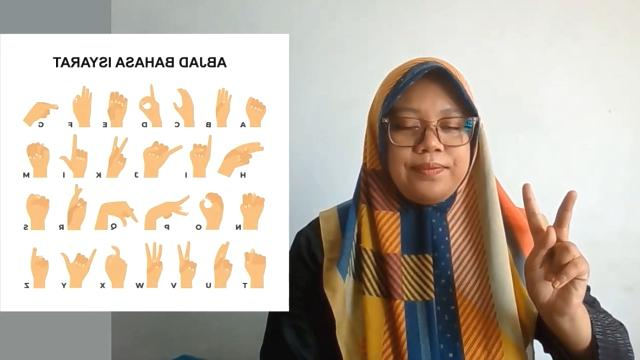K: (521, 181, 591, 323)
